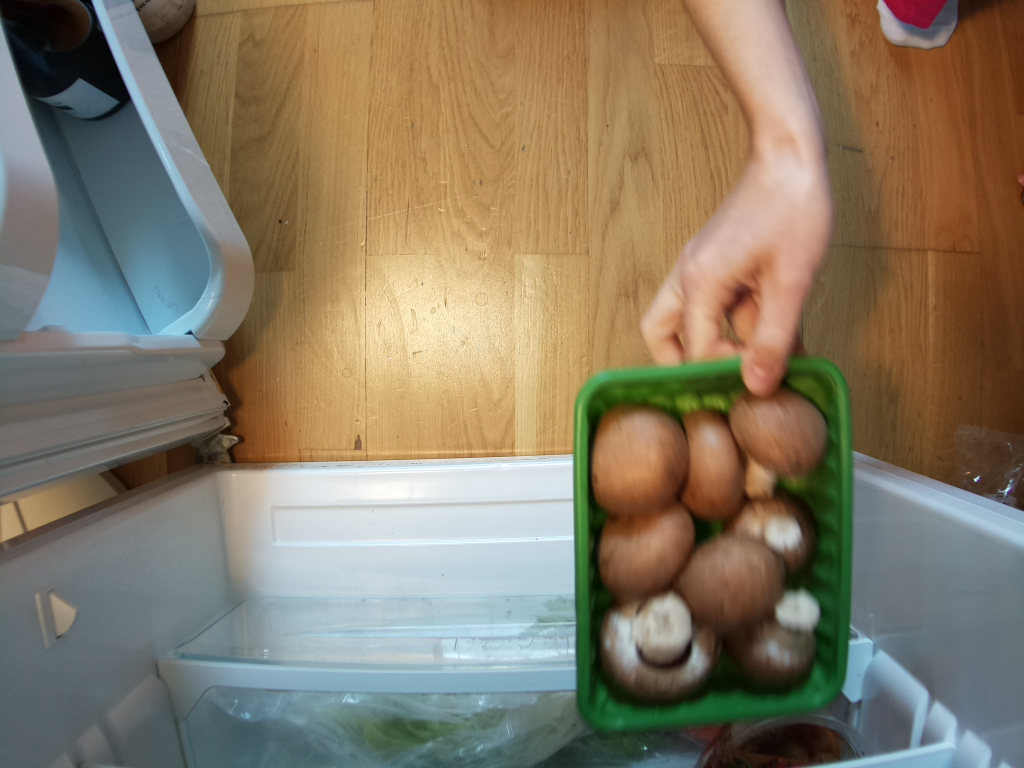mushrooms: (555, 349, 859, 725)
